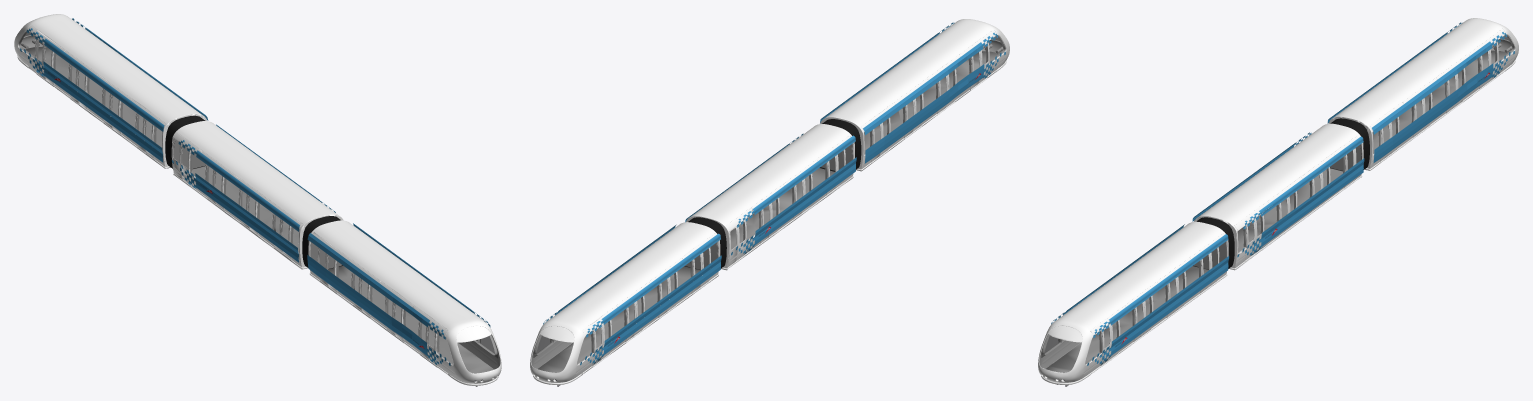
The model's file is Dubai Metro-optimized.glb.
3 renders of one model, left to right at view 1: azimuth 30°, elevation 25°; view 2: azimuth 150°, elevation 25°; view 3: azimuth 330°, elevation 25°, orthographic.
Visible parts, largest first — view 1: Dubai Metro_1, tram_02_body.001, tram_02_body.002, metro-Vinyl.005, metro-Vinyl.006, metro-Vinyl.001, tram_connector.001, tram_connector; view 2: tram_02_body.001, Dubai Metro_1, tram_02_body.002, metro-Vinyl.005, metro-Vinyl.006, metro-Vinyl.001, tram_connector.001, tram_connector; view 3: Dubai Metro_1, tram_02_body.001, tram_02_body.002, metro-Vinyl.004, metro-Vinyl.003, metro-Vinyl.002, tram_connector.001, tram_connector, metro-Vinyl.001.
Part boxes in pixels (x1,y1,x2,y2): Dubai Metro_1: (308,220,501,386); tram_02_body.001: (14,14,206,168); tram_02_body.002: (171,121,343,269); metro-Vinyl.005: (307,233,450,365); metro-Vinyl.006: (20,28,164,162); metro-Vinyl.001: (171,140,299,262); tram_connector.001: (165,115,205,168); tram_connector: (302,216,342,268); tram_02_body.001: (530,222,720,386); Dubai Metro_1: (820,19,1009,171); tram_02_body.002: (686,124,854,270); metro-Vinyl.005: (863,32,1005,163); metro-Vinyl.006: (580,233,721,365); metro-Vinyl.001: (731,135,856,255); tram_connector.001: (685,217,726,269); tram_connector: (820,119,861,171); Dubai Metro_1: (1038,221,1228,386); tram_02_body.001: (1328,18,1518,170); tram_02_body.002: (1194,123,1363,270); metro-Vinyl.004: (1372,32,1514,162); metro-Vinyl.003: (1087,234,1229,365); metro-Vinyl.002: (1237,136,1364,257); tram_connector.001: (1330,118,1369,170); tram_connector: (1193,217,1234,269); metro-Vinyl.001: (1192,132,1311,221).
Bounding box in the file's own units: 0.029 × 0.0312 × 0.474.
Materials: 12 (6 with a texture image).
